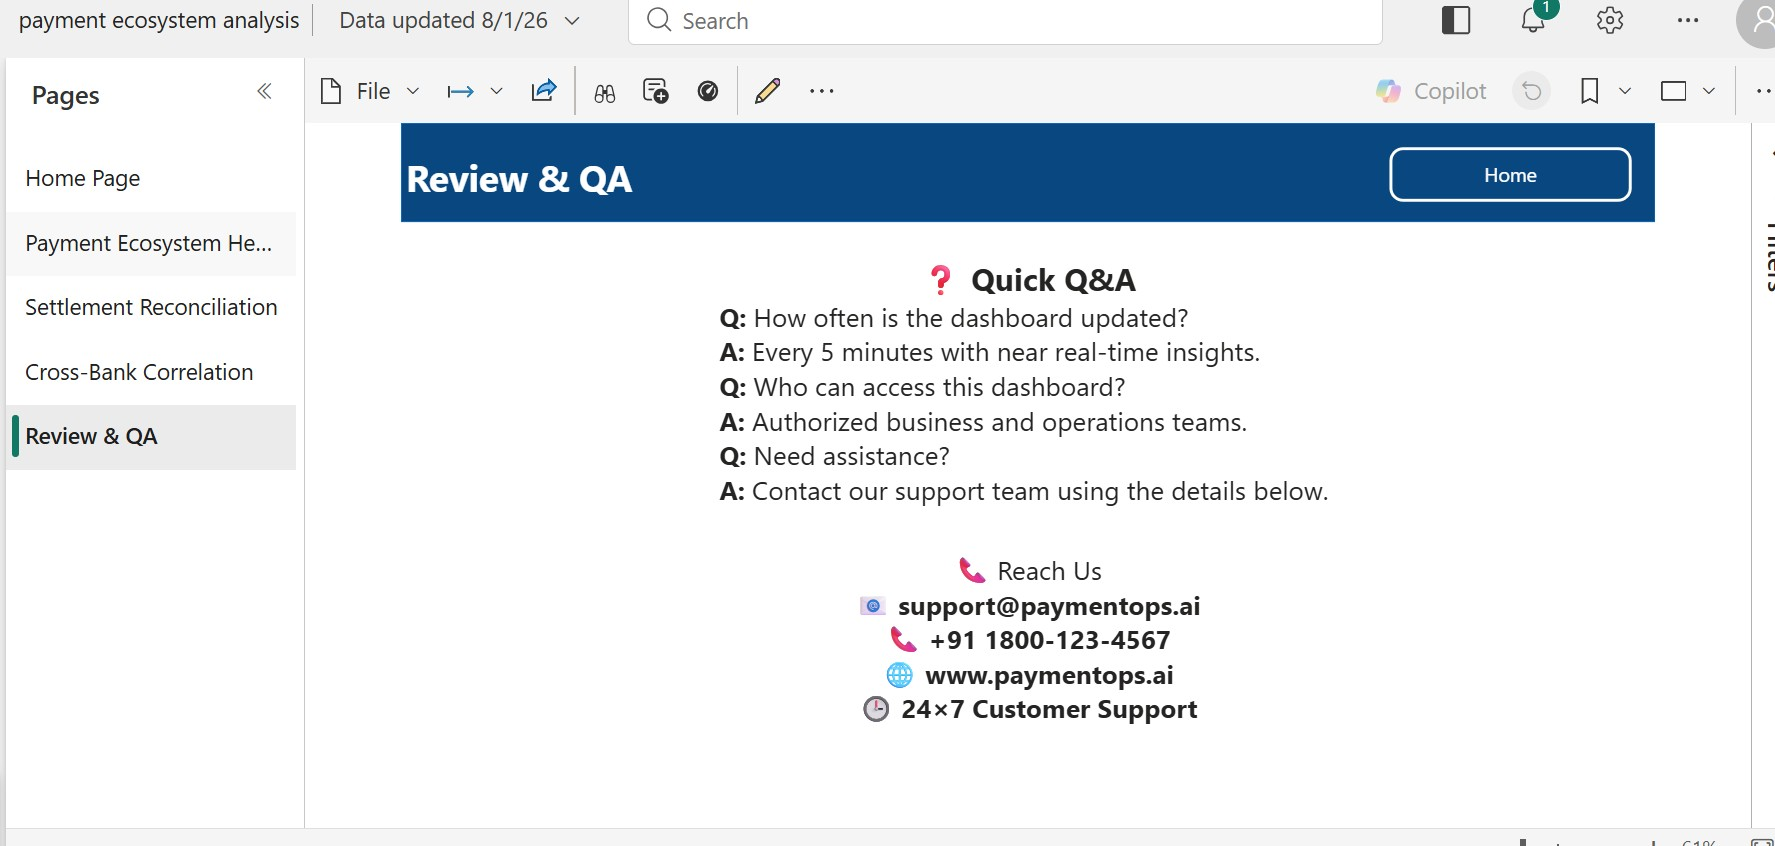

This screenshot's page, from the dashboard's own definition file:
{"tool":"powerbi","page":{"name":"Review & QA","canvas":[1280,720],"ordinal":4},"visuals":[{"type":"shape","box":[0,0,1280.2,101.2],"z":0},{"type":"textbox","box":[0,131.4,1280.2,289.4],"z":1},{"type":"textbox","box":[0,433.3,1280.2,255.7],"z":2},{"type":"textbox","box":[0,24.9,463.4,88.8],"z":3},{"type":"shape","box":[1008.6,24.9,247.3,55.7],"z":4}]}

Visuals, with their boxes on the page's 1280x720 design canvas (x1, y1, x2, y2). These are canvas units, not pixel positions in the 1775x846 screenshot, which may show the page scaled, cropped or inside an application window:
shape: (left=0, top=0, right=1280, bottom=101)
textbox: (left=0, top=131, right=1280, bottom=421)
textbox: (left=0, top=433, right=1280, bottom=689)
textbox: (left=0, top=25, right=463, bottom=114)
shape: (left=1009, top=25, right=1256, bottom=81)
